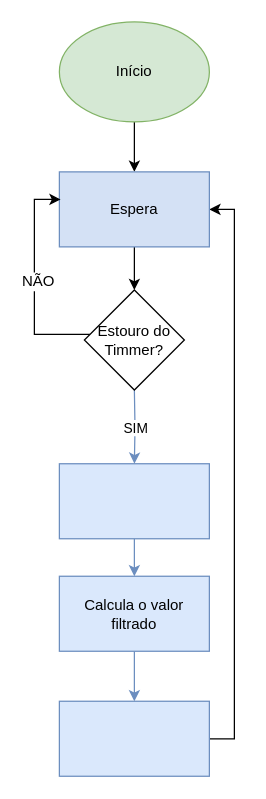
This 266x799 diagram has some shape labels left out. Each missing label, with the box of its shape:
Envia o valor para o terminal: (58, 700, 209, 776)
Inicia a conversão: (58, 462, 209, 539)
